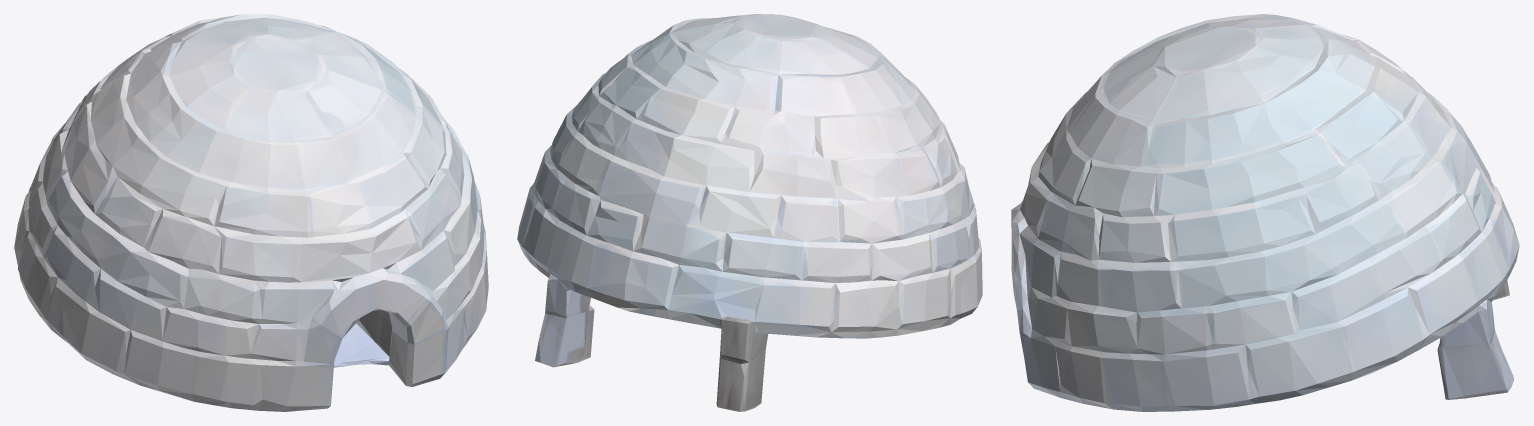
File: igloo.fbx
3 renders of one model, left to right at view 1: azimuth 30°, elevation 25°; view 2: azimuth 150°, elevation 25°; view 3: azimuth 270°, elevation 25°, orthographic. The views are drawn at different scales.
Parts seen in each view (by area): view 1: Mesh_0; view 2: Mesh_0; view 3: Mesh_0.
Boxes of the visible parts, box(x1,y1,x2,y2) form: Mesh_0: box(14, 14, 488, 411); Mesh_0: box(517, 14, 982, 411); Mesh_0: box(1011, 14, 1519, 411).
Bounding box in the file's own units: 1.51 × 1 × 1.5.
1 material, 1 textured.
